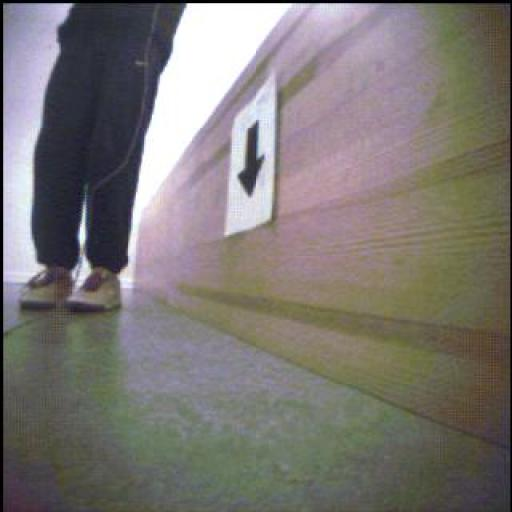Arrow: (239, 123, 265, 198)
